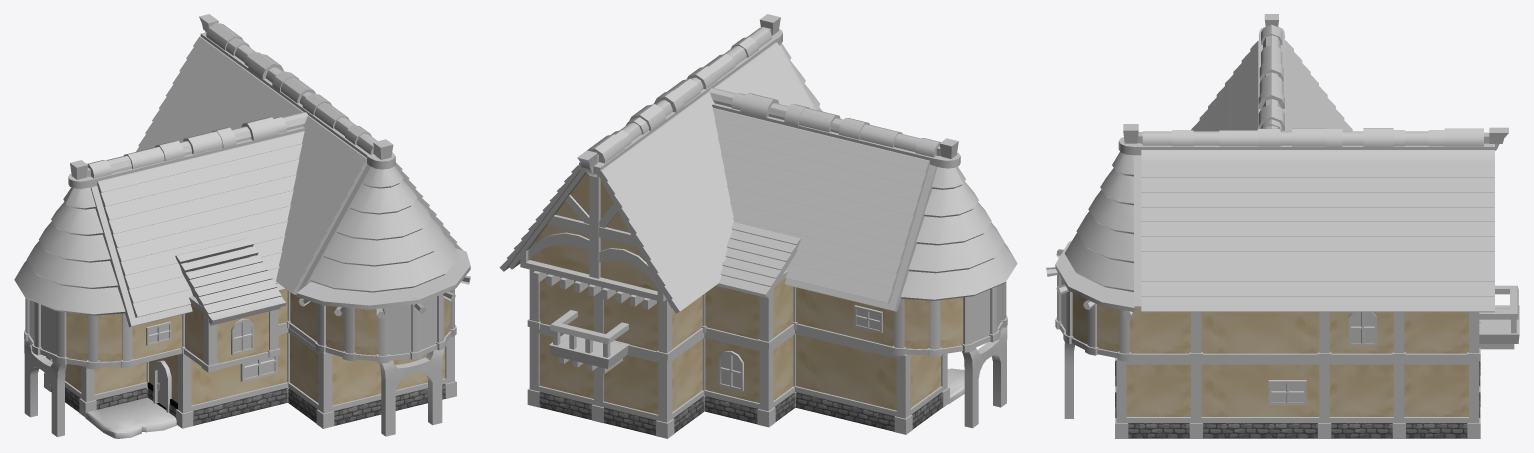
Rendered from HOUSE.fbx.
The picture shows the model from 3 angles, left to right: view 1: azimuth 30°, elevation 25°; view 2: azimuth 150°, elevation 25°; view 3: azimuth 270°, elevation 25°; orthographic projection. The views are drawn at different scales.
Visible parts, largest first — view 1: Object442; view 2: Object442; view 3: Object442.
Boxes of the visible parts, <box> form: Object442: <box>14,14,470,438</box>; Object442: <box>499,14,1017,438</box>; Object442: <box>1046,14,1519,438</box>.
Size of the model in its own units: 844 by 869 by 564.
